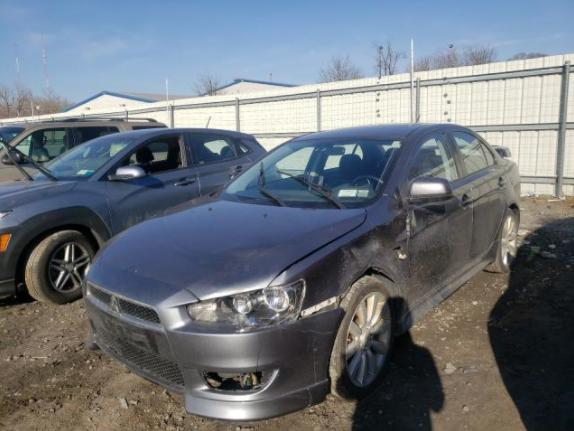Back-door: (447, 128, 506, 267)
Back-wheel: (483, 208, 518, 273)
Back-window: (452, 131, 494, 176)
Fender: (267, 194, 409, 324)
Front-bumper: (83, 259, 346, 422)
Front-door: (395, 127, 473, 313)
Front-wheel: (328, 274, 398, 401)
Front-window: (407, 132, 458, 184)
Grille: (87, 284, 182, 387)
Headlight: (186, 280, 306, 329)
Hood: (96, 196, 368, 301)
Mirror: (401, 178, 451, 207)
Quarter-panel: (487, 159, 520, 257)
Rocker-panel: (397, 255, 496, 337)
Roof: (290, 122, 447, 141)
Trunk: (492, 146, 512, 158)
Windshield: (212, 138, 403, 209)
